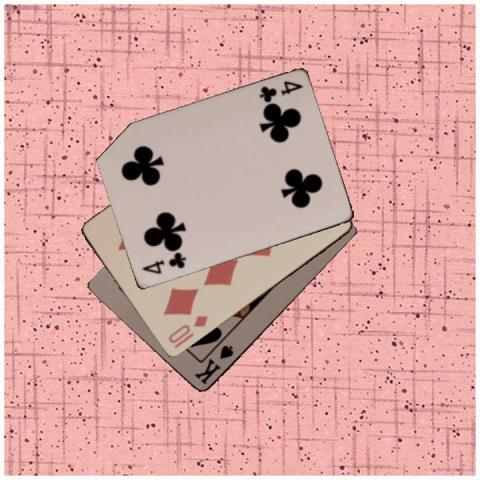10d: (165, 313, 210, 345)
4c: (256, 78, 304, 105), (139, 250, 187, 276)
Ks: (192, 342, 236, 387)
